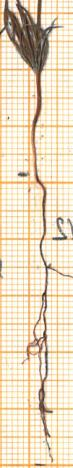flower: (0, 0, 65, 77)
root: (19, 174, 73, 467)
stem: (27, 78, 47, 174)
